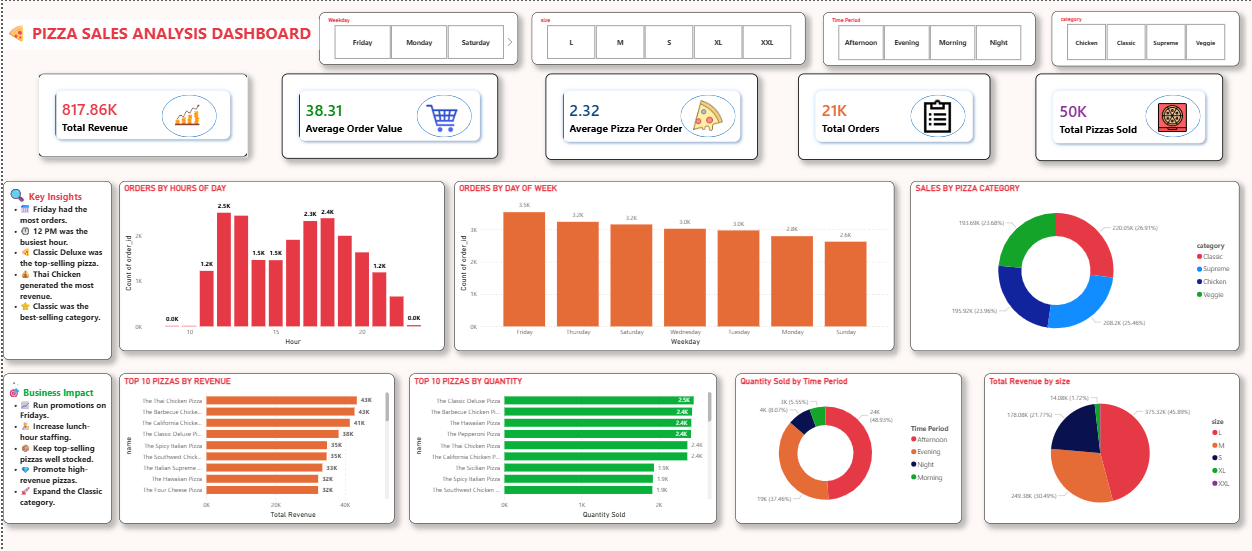

The page's visual inventory and layout, read from the dashboard file:
{"tool":"powerbi","page":{"name":"Page 1","canvas":[2500,1100],"ordinal":0},"visuals":[{"type":"cardVisual","fields":{"Data":["order_details.Total Revenue"]},"box":[70,145,420,167.5],"z":0},{"type":"cardVisual","fields":{"Data":["order_details.Total Orders"]},"box":[1590,145,385,172.5],"z":1000},{"type":"cardVisual","fields":{"Data":["order_details.Total Pizzas Sold"]},"box":[2065,145,375,175],"z":2000},{"type":"cardVisual","fields":{"Data":["order_details.Average Order Value"]},"box":[557.5,145,432.5,170],"z":3000},{"type":"cardVisual","fields":{"Data":["order_details.Average Pizza Per Order"]},"box":[1085,145,425,172.5],"z":4000},{"type":"clusteredColumnChart","title":"ORDERS BY HOURS OF DAY","fields":{"Category":["orders.Hour"],"Y":["CountNonNull(orders.order_id)"]},"box":[232.5,360,650,340],"z":5000},{"type":"donutChart","title":"SALES BY PIZZA CATEGORY","fields":{"Category":["pizza_types (2).category"],"Y":["order_details.Total Revenue"]},"box":[1815,360,657.5,340],"z":6000},{"type":"clusteredBarChart","title":"TOP 10 PIZZAS BY REVENUE","fields":{"Category":["pizza_types (2).name"],"Y":["order_details.Total Revenue"]},"box":[232.5,745,550,300],"z":7000},{"type":"barChart","title":"TOP 10 PIZZAS BY QUANTITY","fields":{"Category":["pizza_types (2).name"],"Y":["order_details.Quantity Sold"]},"box":[812.5,745,615,300],"z":8000},{"type":"donutChart","fields":{"Category":["orders.Time Period"],"Y":["order_details.Quantity Sold"]},"box":[1465,745,452.5,300],"z":9000},{"type":"pieChart","fields":{"Category":["pizzas.size"],"Y":["order_details.Total Revenue"]},"box":[1962.5,745,510,300],"z":10000},{"type":"columnChart","title":"ORDERS BY DAY OF WEEK","fields":{"Category":["orders.Weekday"],"Y":["CountNonNull(orders.order_id)"]},"box":[902.5,360,880,340],"z":11000},{"type":"slicer","fields":{"Values":["orders.Weekday"]},"box":[632.5,22.5,397.5,105],"z":12000},{"type":"slicer","fields":{"Values":["pizzas.size"]},"box":[1057.5,22.5,547.5,105],"z":13000},{"type":"slicer","fields":{"Values":["orders.Time Period"]},"box":[1640,22.5,425,107.5],"z":14000},{"type":"slicer","fields":{"Values":["pizza_types (2).category"]},"box":[2097.5,20,375,110],"z":15000},{"type":"textbox","box":[0,37.5,632.5,60],"z":16000},{"type":"textbox","box":[0,360,217.5,357.5],"z":17000},{"type":"textbox","box":[0,745,217.5,300],"z":18000},{"type":"shape","box":[317.5,187.5,110,85],"z":19000},{"type":"shape","box":[827.5,187.5,110,85],"z":20000},{"type":"shape","box":[1355,187.5,110,85],"z":21000},{"type":"shape","box":[1815,187.5,110,85],"z":22000},{"type":"shape","box":[2285,187.5,110,85],"z":23000},{"type":"image","box":[338.3,200,61.7,55],"z":24000},{"type":"image","box":[828.3,178.3,103.3,108.3],"z":25000},{"type":"image","box":[1355,195,110,66.7],"z":26000},{"type":"image","box":[1825,191.7,88.3,78.3],"z":27000},{"type":"image","box":[2298.3,201.7,81.7,61.7],"z":28000}]}

Visuals, with their boxes in screenshot pixels (x1, y1, x2, y2), scaled from the page's 2500x1100 canvas onto the 1252x551 screenshot:
cardVisual - order_details.Total Revenue: detection(35, 73, 245, 157)
cardVisual - order_details.Total Orders: detection(796, 73, 989, 159)
cardVisual - order_details.Total Pizzas Sold: detection(1034, 73, 1222, 160)
cardVisual - order_details.Average Order Value: detection(279, 73, 496, 158)
cardVisual - order_details.Average Pizza Per Order: detection(543, 73, 756, 159)
"ORDERS BY HOURS OF DAY" clusteredColumnChart: detection(116, 180, 442, 351)
"SALES BY PIZZA CATEGORY" donutChart: detection(909, 180, 1238, 351)
"TOP 10 PIZZAS BY REVENUE" clusteredBarChart: detection(116, 373, 392, 523)
"TOP 10 PIZZAS BY QUANTITY" barChart: detection(407, 373, 715, 523)
donutChart - orders.Time Period x order_details.Quantity Sold: detection(734, 373, 960, 523)
pieChart - pizzas.size x order_details.Total Revenue: detection(983, 373, 1238, 523)
"ORDERS BY DAY OF WEEK" columnChart: detection(452, 180, 893, 351)
slicer - orders.Weekday: detection(317, 11, 516, 64)
slicer - pizzas.size: detection(530, 11, 804, 64)
slicer - orders.Time Period: detection(821, 11, 1034, 65)
slicer - pizza_types (2).category: detection(1050, 10, 1238, 65)
textbox: detection(0, 19, 317, 49)
textbox: detection(0, 180, 109, 359)
textbox: detection(0, 373, 109, 523)
shape: detection(159, 94, 214, 136)
shape: detection(414, 94, 470, 136)
shape: detection(679, 94, 734, 136)
shape: detection(909, 94, 964, 136)
shape: detection(1144, 94, 1199, 136)
image: detection(169, 100, 200, 128)
image: detection(415, 89, 467, 144)
image: detection(679, 98, 734, 131)
image: detection(914, 96, 958, 135)
image: detection(1151, 101, 1192, 132)
